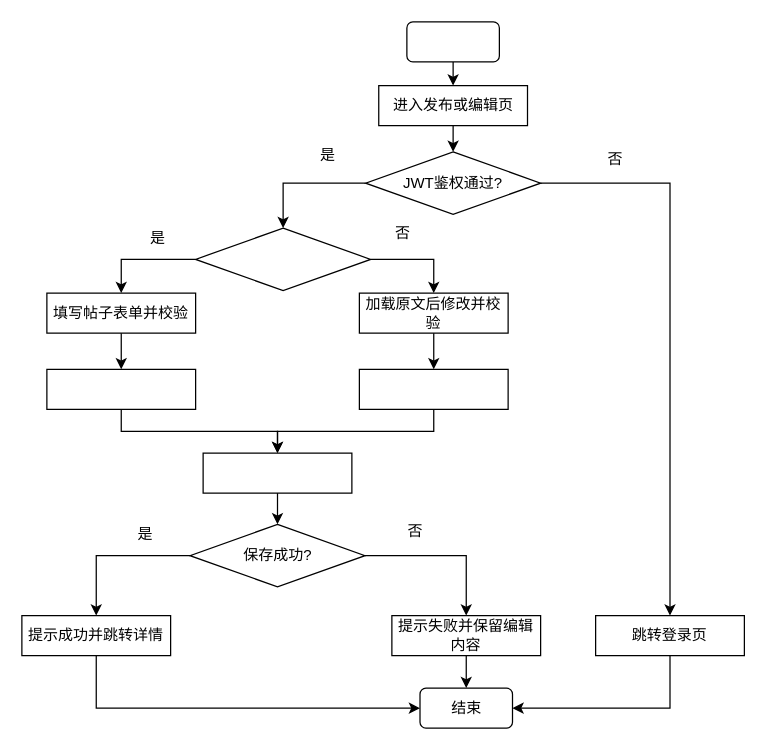
Some shapes in this 766 by 750 pixel diagram are drawn without their labels. Each missing label, with the box of its shape:
后端校验并保存: (202, 452, 352, 493)
开始: (406, 21, 499, 62)
操作类型是新建?: (194, 227, 371, 291)
调用创建接口: (46, 368, 196, 409)
调用更新接口: (358, 368, 508, 409)
